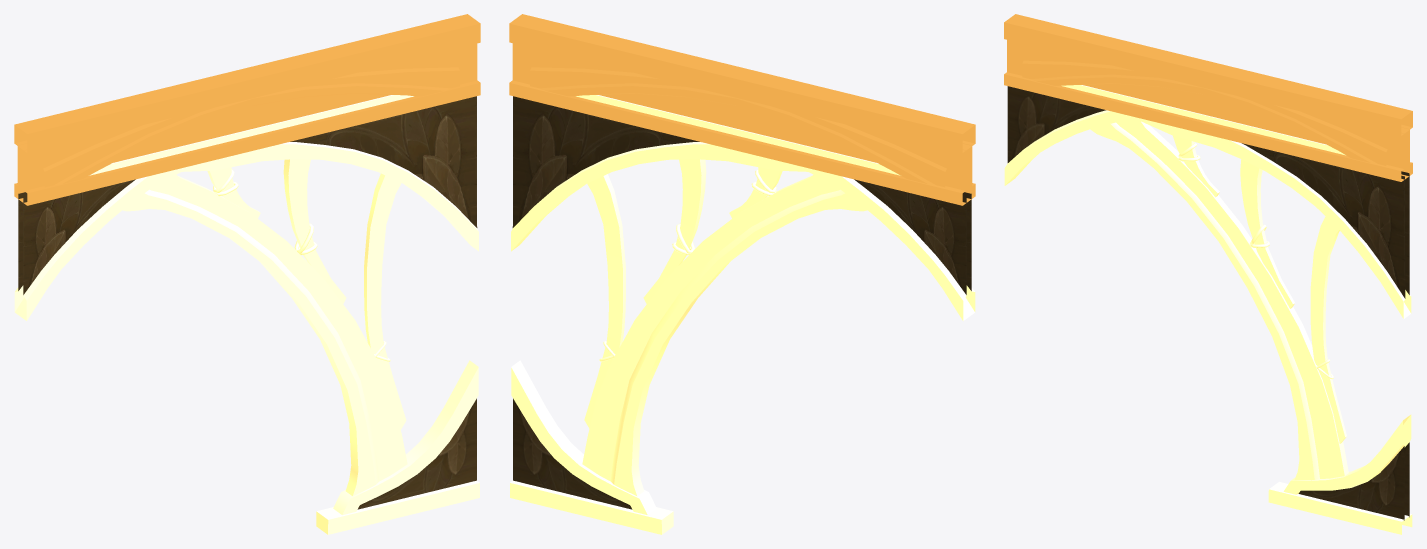
File: Homeworld_Interior_Xm_Room_Wall_03_L_Vo.fbx
3 views of the same model, side by side, from view 1: azimuth 30°, elevation 25°; view 2: azimuth 150°, elevation 25°; view 3: azimuth 330°, elevation 25° (orthographic). The views are drawn at different scales.
Parts seen in each view (by area): view 1: Homeworld_Interior_Xm_Room_Wall_03_L_Vo; view 2: Homeworld_Interior_Xm_Room_Wall_03_L_Vo; view 3: Homeworld_Interior_Xm_Room_Wall_03_L_Vo.
Boxes of the visible parts, x1,y1,x2,y2 form: Homeworld_Interior_Xm_Room_Wall_03_L_Vo: (14, 14, 480, 534); Homeworld_Interior_Xm_Room_Wall_03_L_Vo: (509, 14, 975, 534); Homeworld_Interior_Xm_Room_Wall_03_L_Vo: (1004, 14, 1412, 534).
Bounding box in the file's own units: 5 × 5 × 0.25.
